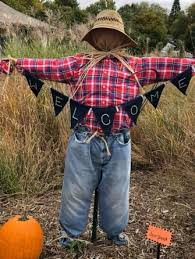person-like: (1, 8, 194, 247)
